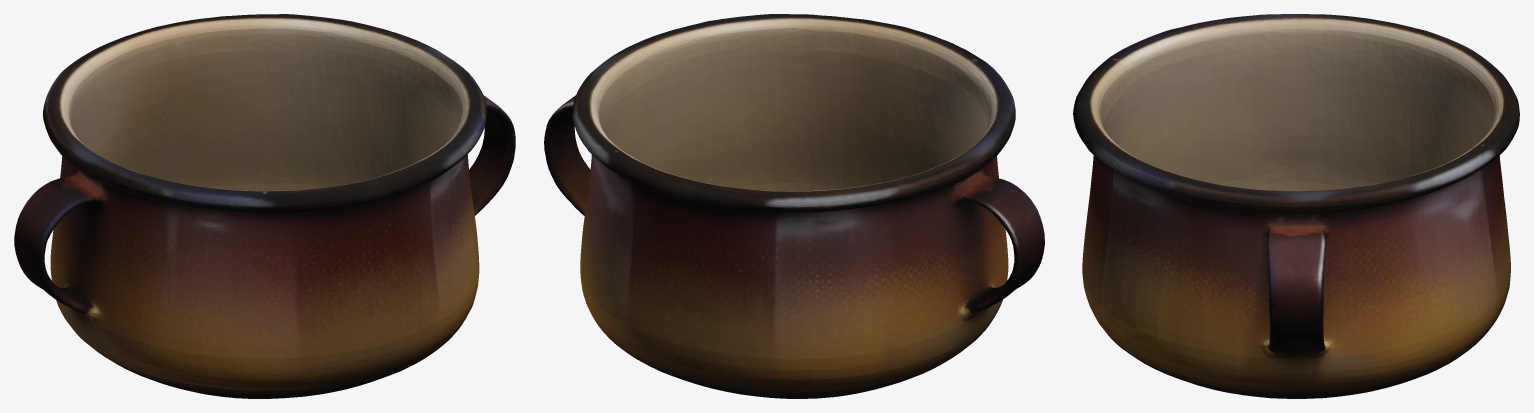
Rendered from pote.glb.
3 renders of one model, left to right at view 1: azimuth 30°, elevation 25°; view 2: azimuth 150°, elevation 25°; view 3: azimuth 270°, elevation 25°, orthographic.
Visible parts, largest first — view 1: world; view 2: world; view 3: world.
Part boxes in pixels (x1,y1,x2,y2): world: (14,14,515,398); world: (544,14,1044,398); world: (1073,14,1519,398).
Size of the model in its own units: 0.9987 by 0.477 by 0.8066.
Materials: 1 (1 with a texture image).
